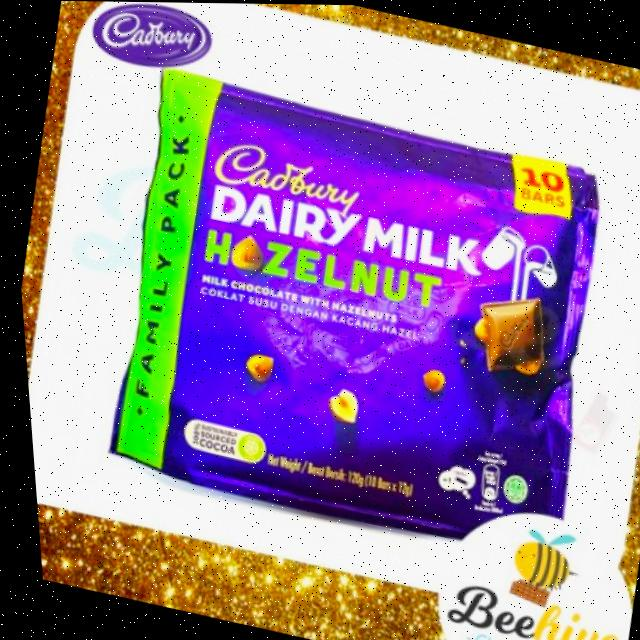cadbury: (74, 62, 637, 562)
